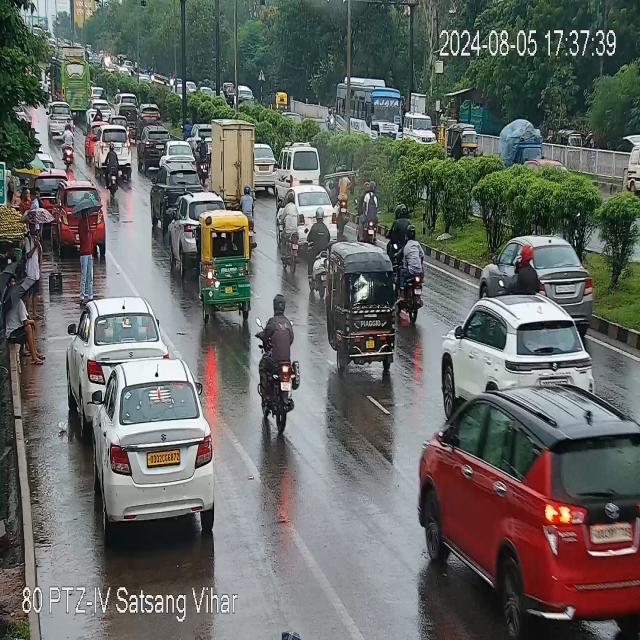2-wheelers: (258, 295, 300, 431), (396, 231, 434, 316), (308, 208, 328, 297), (354, 180, 380, 242), (282, 186, 299, 270), (510, 242, 534, 288), (386, 202, 406, 246), (104, 144, 118, 196), (197, 128, 209, 184), (61, 126, 76, 169), (94, 106, 102, 124)
auto: (321, 240, 401, 372), (194, 210, 253, 319), (445, 125, 479, 160)
bus: (52, 48, 93, 112), (150, 161, 183, 226)
car: (427, 388, 640, 634), (77, 363, 215, 530), (438, 296, 592, 398), (484, 234, 600, 319), (72, 297, 165, 401), (170, 192, 232, 267), (54, 183, 109, 253), (278, 185, 342, 235), (86, 123, 135, 168), (280, 142, 326, 184), (402, 107, 436, 150), (256, 143, 283, 190), (158, 140, 202, 168), (49, 102, 76, 134), (142, 127, 172, 154), (89, 98, 112, 124), (118, 90, 142, 110), (138, 104, 164, 122)
pedestrian: (3, 285, 45, 363), (76, 202, 102, 289), (27, 219, 40, 280), (22, 184, 46, 209)
truck: (197, 118, 265, 202), (337, 78, 401, 146)
